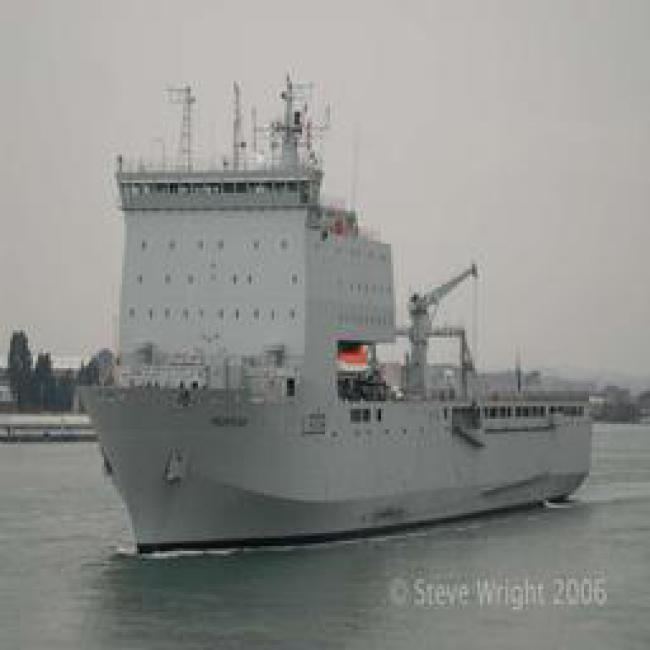Ship: (72, 162, 625, 550)
